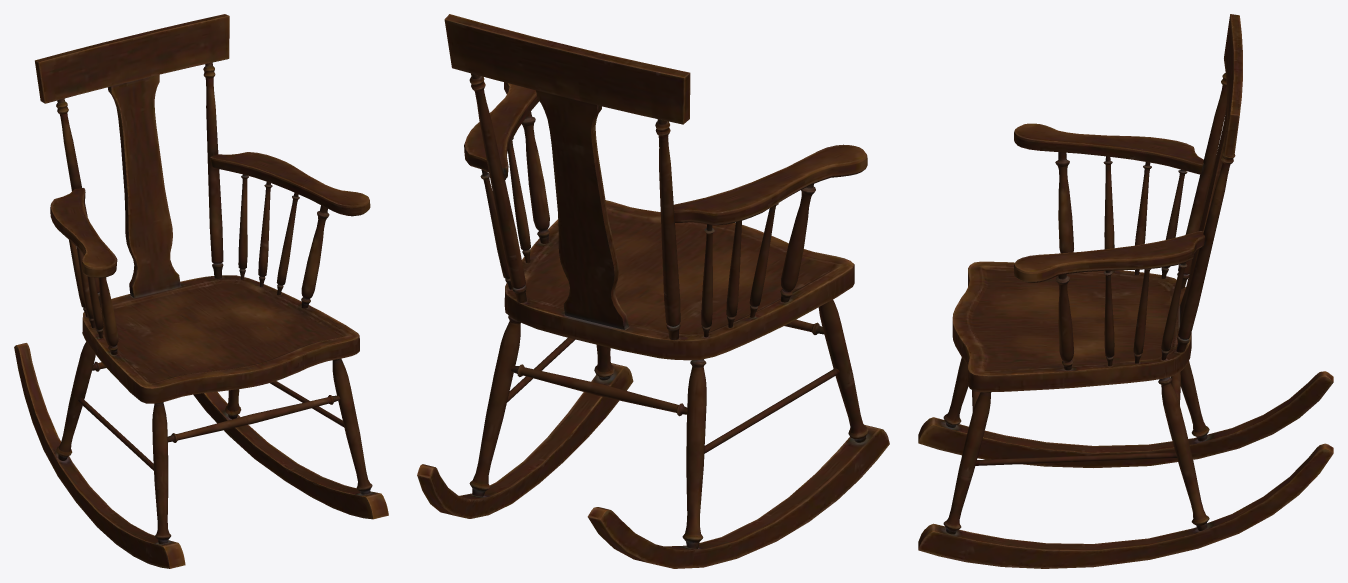
Rendered from Rockingchair_01.glb.
3 renders of one model, left to right at view 1: azimuth 30°, elevation 25°; view 2: azimuth 150°, elevation 25°; view 3: azimuth 270°, elevation 25°, orthographic. The views are drawn at different scales.
Visible parts, largest first — view 1: Rockingchair_01; view 2: Rockingchair_01; view 3: Rockingchair_01.
Part boxes in pixels (<box>): Rockingchair_01: <box>14,14,388,568</box>; Rockingchair_01: <box>417,14,889,568</box>; Rockingchair_01: <box>918,14,1333,568</box>.
Bounding box in the file's own units: 0.7081 × 0.9949 × 0.8335.
Materials: 1 (1 with a texture image).
